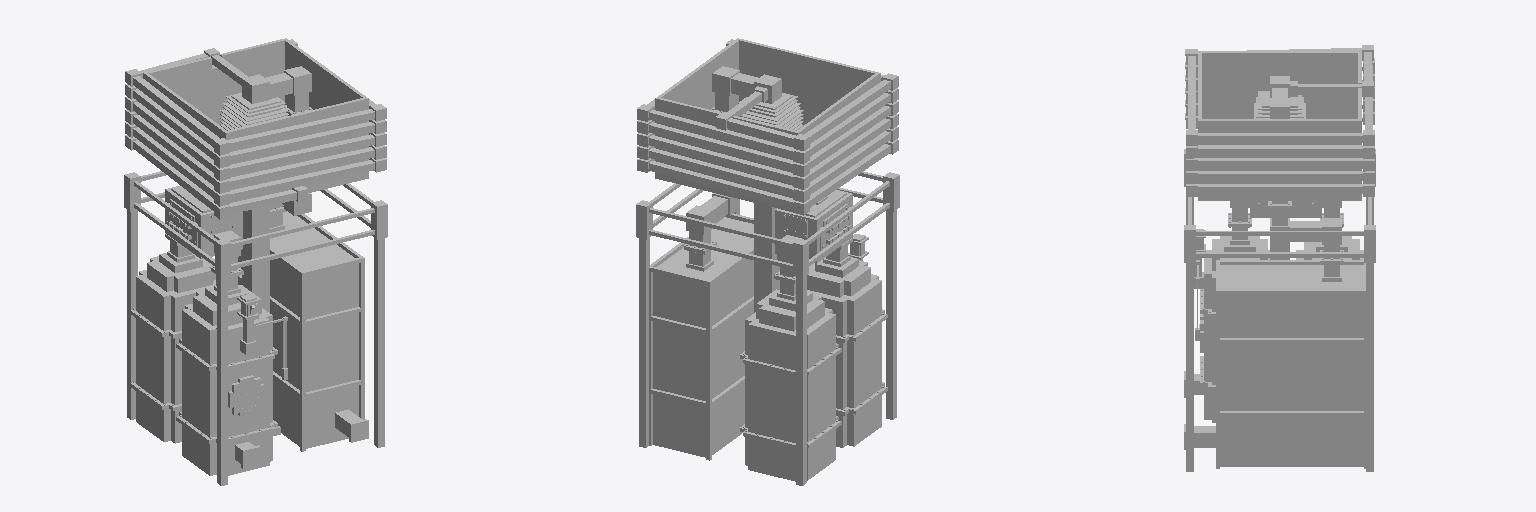
Rendered from solar_boiler.obj.
The picture shows the model from 3 angles: view 1: azimuth 30°, elevation 25°; view 2: azimuth 150°, elevation 25°; view 3: azimuth 270°, elevation 25°; orthographic projection.
Visible parts, largest first — view 1: Water Tank, Steam Storage11, Steam Storage2, Steam Storage10, Solar Reflector4, Solar Reflector2, MirrorStruct, MirrorStruct1, Struct1, Solar Reflector1, MirrorStruct2, Steam Storage1 (+28 smaller); view 2: Water Tank, Steam Storage1, Solar Reflector2, Steam Storage11, Steam Storage2, MirrorStruct2, MirrorStruct1, MirrorStruct3, Solar Reflector1, Struct1, Steam Storage10, Boiler43 (+28 smaller); view 3: Water Tank, Solar Reflector, Solar Reflector1, Boiler33, Boiler41, MirrorStruct, MirrorStruct3, Boiler25, Boiler49, Boiler57, Steam Storage10, MirorStruct12 (+9 smaller).
Boxes of the visible parts, x1=… form: Water Tank: x1=238, y1=211, x2=358, y2=448; Steam Storage11: x1=182, y1=308, x2=272, y2=475; Steam Storage2: x1=136, y1=275, x2=170, y2=441; Steam Storage10: x1=185, y1=304, x2=269, y2=475; Solar Reflector4: x1=161, y1=51, x2=284, y2=124; Solar Reflector2: x1=224, y1=97, x2=368, y2=189; MirrorStruct: x1=374, y1=238, x2=384, y2=447; MirrorStruct1: x1=217, y1=276, x2=227, y2=485; Struct1: x1=242, y1=206, x2=269, y2=312; Solar Reflector1: x1=285, y1=40, x2=365, y2=109; MirrorStruct2: x1=127, y1=210, x2=137, y2=419; Steam Storage1: x1=139, y1=270, x2=215, y2=443; Water Tank: x1=653, y1=217, x2=753, y2=457; Steam Storage1: x1=748, y1=308, x2=832, y2=481; Solar Reflector2: x1=736, y1=38, x2=880, y2=124; Steam Storage11: x1=847, y1=279, x2=881, y2=446; Steam Storage2: x1=745, y1=312, x2=835, y2=480; MirrorStruct2: x1=796, y1=276, x2=806, y2=485; MirrorStruct1: x1=886, y1=210, x2=896, y2=419; MirrorStruct3: x1=639, y1=238, x2=649, y2=447; Solar Reflector1: x1=658, y1=40, x2=738, y2=109; Struct1: x1=754, y1=203, x2=779, y2=312; Steam Storage10: x1=807, y1=274, x2=878, y2=447; Boiler43: x1=648, y1=135, x2=794, y2=183; Water Tank: x1=1220, y1=265, x2=1363, y2=466; Solar Reflector: x1=1202, y1=51, x2=1357, y2=118; Solar Reflector1: x1=1202, y1=119, x2=1357, y2=200; Boiler33: x1=1198, y1=145, x2=1362, y2=155; Boiler41: x1=1198, y1=158, x2=1362, y2=168; MirrorStruct: x1=1186, y1=263, x2=1193, y2=471; MirrorStruct3: x1=1366, y1=263, x2=1373, y2=471; Boiler25: x1=1198, y1=133, x2=1362, y2=142; Boiler49: x1=1198, y1=171, x2=1362, y2=180; Boiler57: x1=1198, y1=184, x2=1362, y2=193; Steam Storage10: x1=1204, y1=250, x2=1269, y2=419; MirorStruct12: x1=1196, y1=252, x2=1363, y2=257.
Bounding box in the file's own units: 3 × 6.03 × 3.